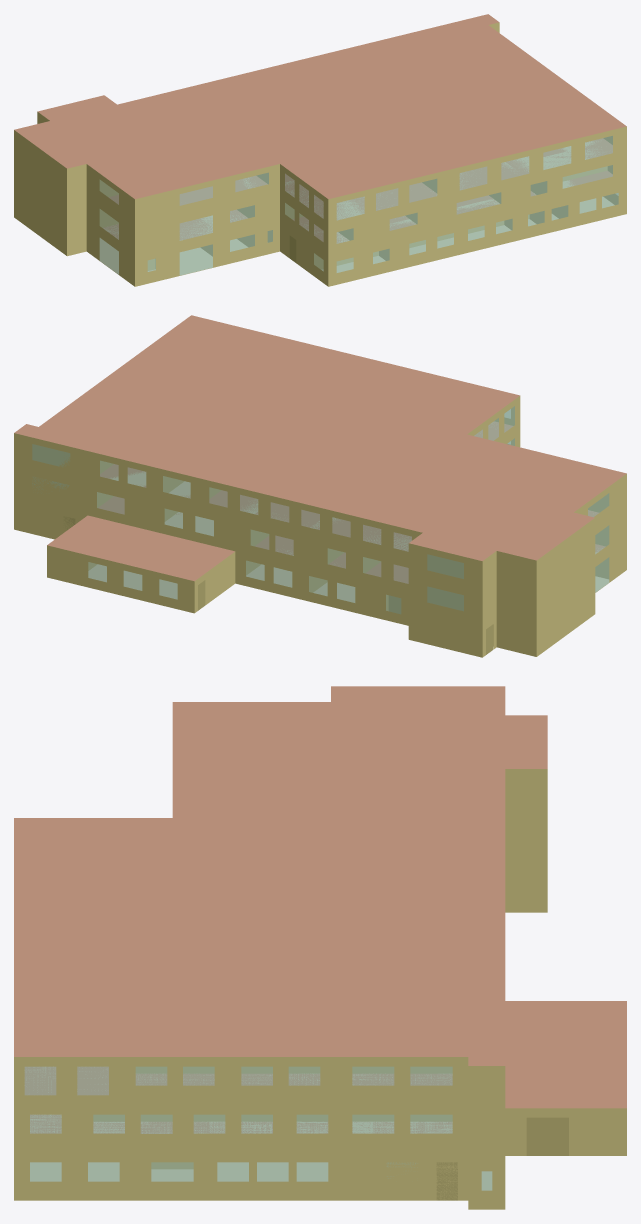
File: Sample_DOE-RefBldgOutPatientNew2004_Chicago.gltf
3 renders of one model, top to bottom at view 1: azimuth 30°, elevation 25°; view 2: azimuth 150°, elevation 25°; view 3: azimuth 270°, elevation 25°, orthographic. The views are drawn at different scales.
Visible parts, largest first — view 1: Floor 3 Office Roof, Floor 3 Undeveloped 1 Roof, Floor 3 Phyical Therapy 1 Roof, Floor 3 Undeveloped 2 Roof, Floor 3 Office Hall Roof, C1BC97, Floor 3 Lounge Roof, Z_UP, 28B002, 850EA7, FCD12D, Floor 3 Physical Therapy 2 Roof (+64 smaller); view 2: Floor 3 Office Roof, Floor 3 Undeveloped 1 Roof, Floor 3 Phyical Therapy 1 Roof, 88E360, Floor 3 Undeveloped 2 Roof, 2E2D0C, 5ADC59, Floor 1 Storge Roof, Floor 3 Office Hall Roof, Floor 3 Lounge Roof, FCD12D, 859BC1 (+49 smaller); view 3: Floor 3 Office Roof, Floor 3 Undeveloped 1 Roof, Floor 3 Phyical Therapy 1 Roof, Floor 3 Undeveloped 2 Roof, Floor 1 Storge Roof, Floor 3 Office Hall Roof, Floor 3 Lounge Roof, C86329, 4B1439, Floor 3 Physical Therapy 2 Roof, Floor 3 Work Roof, AF0124 (+47 smaller).
Boxes of the visible parts, x1,y1,x2,y2 form: Floor 3 Office Roof: (67,54,376,155); Floor 3 Undeveloped 1 Roof: (242,107,444,199); Floor 3 Phyical Therapy 1 Roof: (413,103,626,170); Floor 3 Undeveloped 2 Roof: (97,135,279,190); Floor 3 Office Hall Roof: (87,69,483,170); C1BC97: (445,126,626,199); Floor 3 Lounge Roof: (357,30,473,84); Z_UP: (328,181,626,286); 28B002: (398,210,523,269); 850EA7: (135,191,168,286); FCD12D: (35,145,66,255); Floor 3 Physical Therapy 2 Roof: (427,93,555,137); Floor 3 Office Roof: (196,434,536,546); Floor 3 Undeveloped 1 Roof: (295,364,519,465); Floor 3 Phyical Therapy 1 Roof: (156,315,390,389); 88E360: (14,433,87,539); Floor 3 Undeveloped 2 Roof: (425,434,612,504); 2E2D0C: (408,543,482,657); 5ADC59: (195,477,422,561); Floor 1 Storge Roof: (72,521,234,581); Floor 3 Office Hall Roof: (146,400,583,512); Floor 3 Lounge Roof: (88,408,216,468); FCD12D: (559,518,595,639); 859BC1: (71,551,194,613); Floor 3 Office Roof: (331,728,505,934); Floor 3 Undeveloped 1 Roof: (14,818,299,911); Floor 3 Phyical Therapy 1 Roof: (14,912,119,1056); Floor 3 Undeveloped 2 Roof: (172,702,299,817); Floor 1 Storge Roof: (505,1001,626,1090); Floor 3 Office Hall Roof: (299,702,330,1012); Floor 3 Lounge Roof: (331,961,505,1012); C86329: (119,1057,336,1104); 4B1439: (77,1105,288,1152); Floor 3 Physical Therapy 2 Roof: (119,943,204,1025); Floor 3 Work Roof: (119,1025,336,1056); AF0124: (505,769,547,912).
Bounding box in the file's own units: 51.82 × 9.14 × 35.36.
